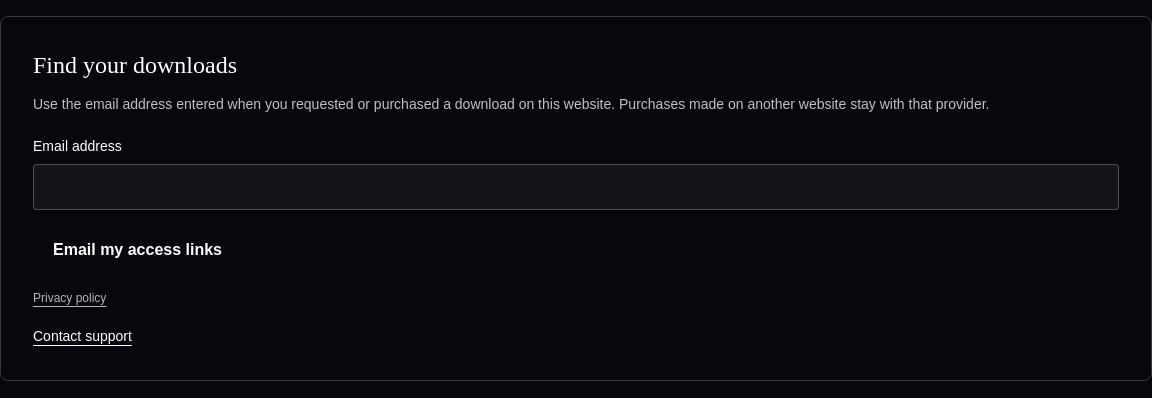
Test case: download recovery › acknowledges without claiming that an address exists or a message was delivered
The width and height of the screenshot is (1152, 398).
Type "reader@example.com" into the field labelled "Email address" at (576, 187), box x1=33 y1=164 x2=1119 y2=210
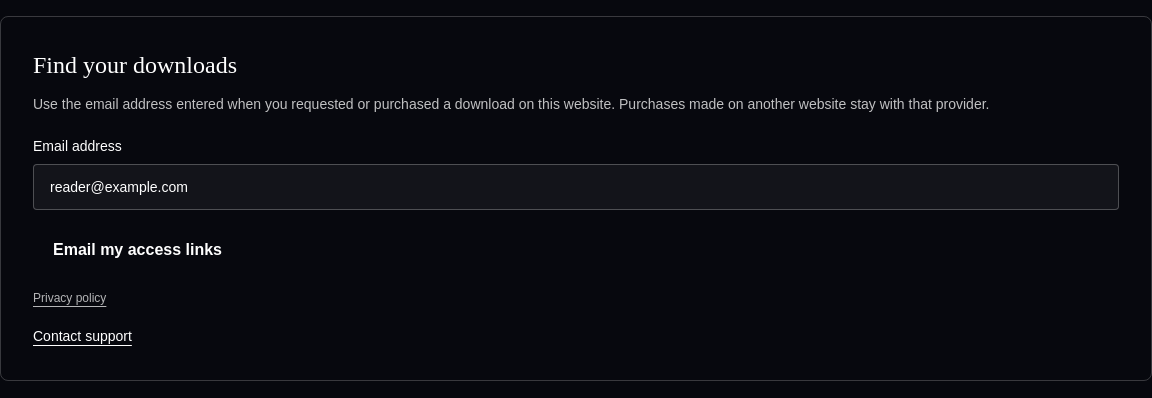
Click the button "Email my access links" at (138, 250), box x1=33 y1=226 x2=242 y2=274
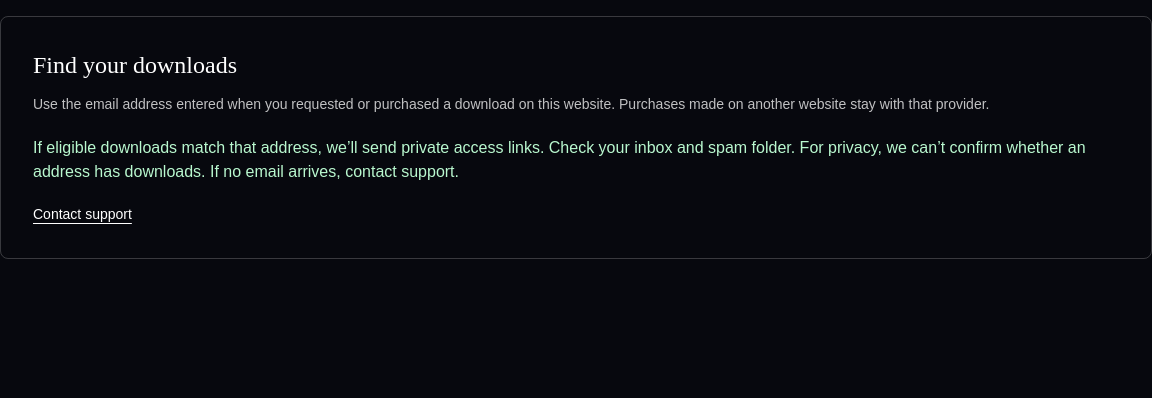
Expected: the message shows "If eligible downloads match", x1=33 y1=139 x2=1086 y2=180
